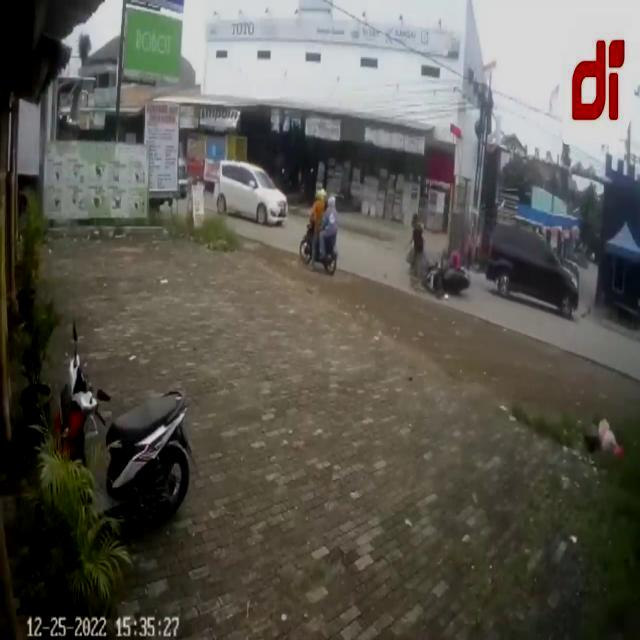accident: (404, 214, 580, 320)
non-accident: (212, 158, 340, 278)
